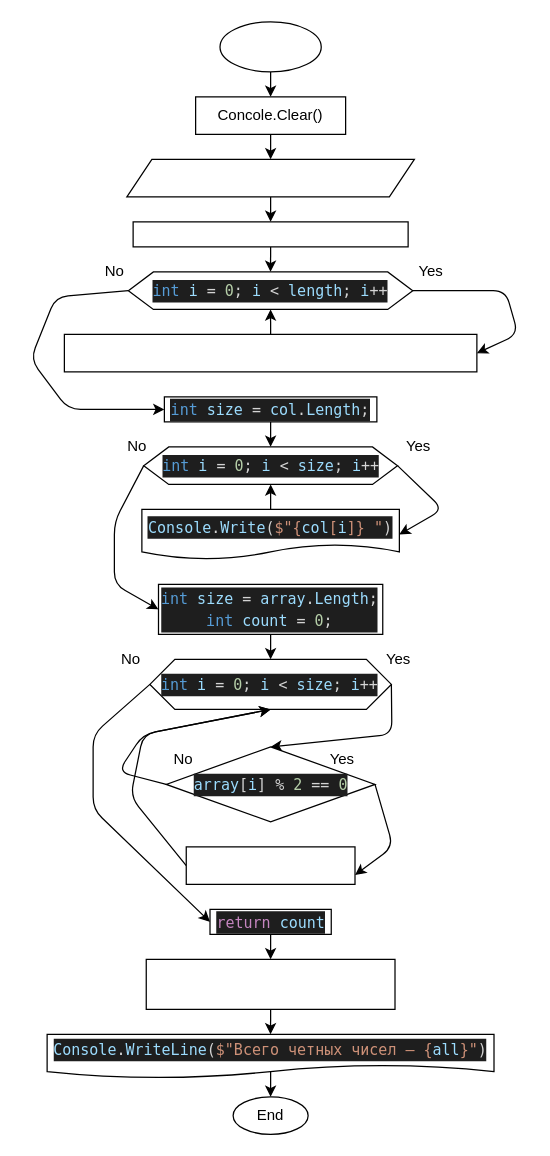
Some shapes in this 550 by 1156 pixel diagram are drawn without their labels. Here are the shapes that lost their labels. From the top down, the box of each, then its label:
(219, 21, 321, 72): beginning
(126, 158, 414, 197): int [] array = new int [ 10 ]
(132, 221, 408, 247): int length = collection . Length
(63, 333, 477, 372): collection [ i ] = new Random (). Next ( 100 , 1000 );
(185, 846, 355, 884): count = count + 1
(145, 958, 395, 1009): Console . WriteLine (); int all = EvenCount ( array );
